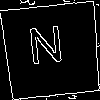N: (26, 25, 66, 74)
